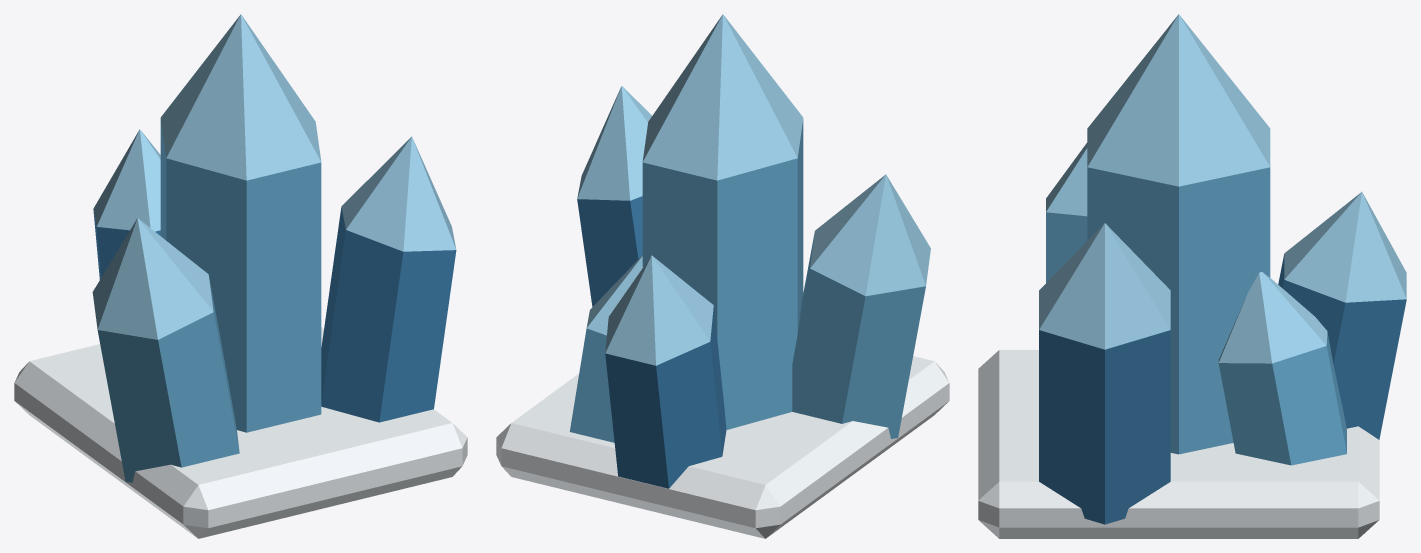
The model's file is env_r2_ice_crystal_cluster.glb.
3 renders of one model, left to right at view 1: azimuth 30°, elevation 25°; view 2: azimuth 150°, elevation 25°; view 3: azimuth 270°, elevation 25°, orthographic. The views are drawn at different scales.
Parts seen in each view (by area): view 1: env_r2_ice_crystal_cluster; view 2: env_r2_ice_crystal_cluster; view 3: env_r2_ice_crystal_cluster.
Boxes of the visible parts, x1=… form: env_r2_ice_crystal_cluster: x1=14, y1=14, x2=467, y2=538; env_r2_ice_crystal_cluster: x1=496, y1=14, x2=949, y2=538; env_r2_ice_crystal_cluster: x1=978, y1=14, x2=1406, y2=538.
Bounding box in the file's own units: 2.2 × 2.6 × 2.2.
Materials: 1 (1 with a texture image).
